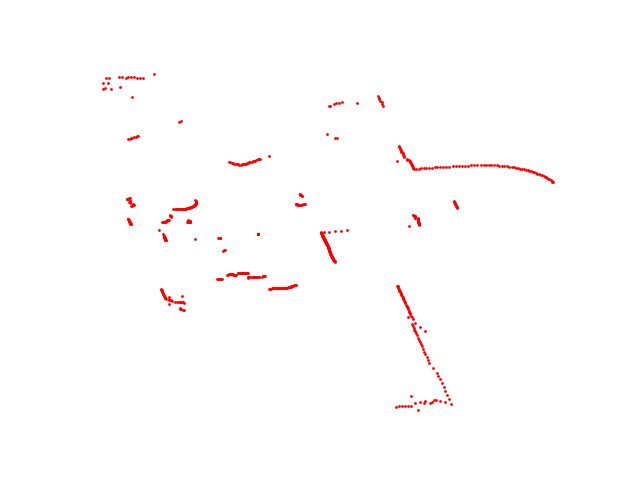person: (291, 191, 310, 212)
